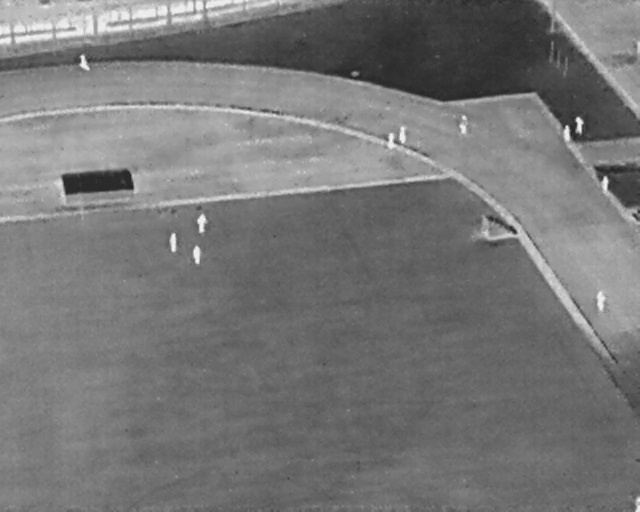Person: (596, 290, 607, 312), (197, 214, 208, 233), (458, 115, 468, 134), (79, 54, 90, 71), (193, 245, 202, 265), (575, 116, 584, 135), (169, 233, 177, 253), (563, 124, 571, 144), (387, 132, 395, 150), (602, 176, 609, 194), (399, 126, 406, 144), (635, 494, 640, 510)
